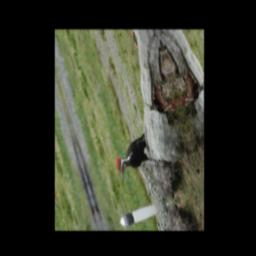Woodpecker: (109, 131, 157, 184)
